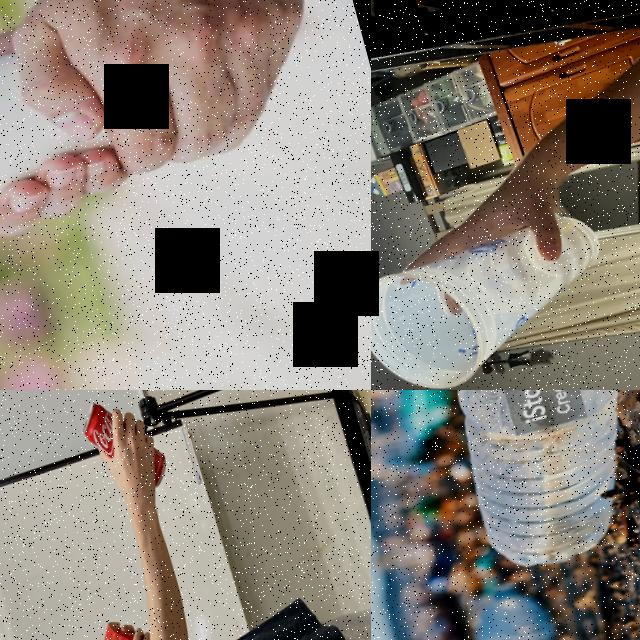can: (74, 390, 173, 502)
cup: (371, 206, 626, 390), (0, 17, 125, 256)
